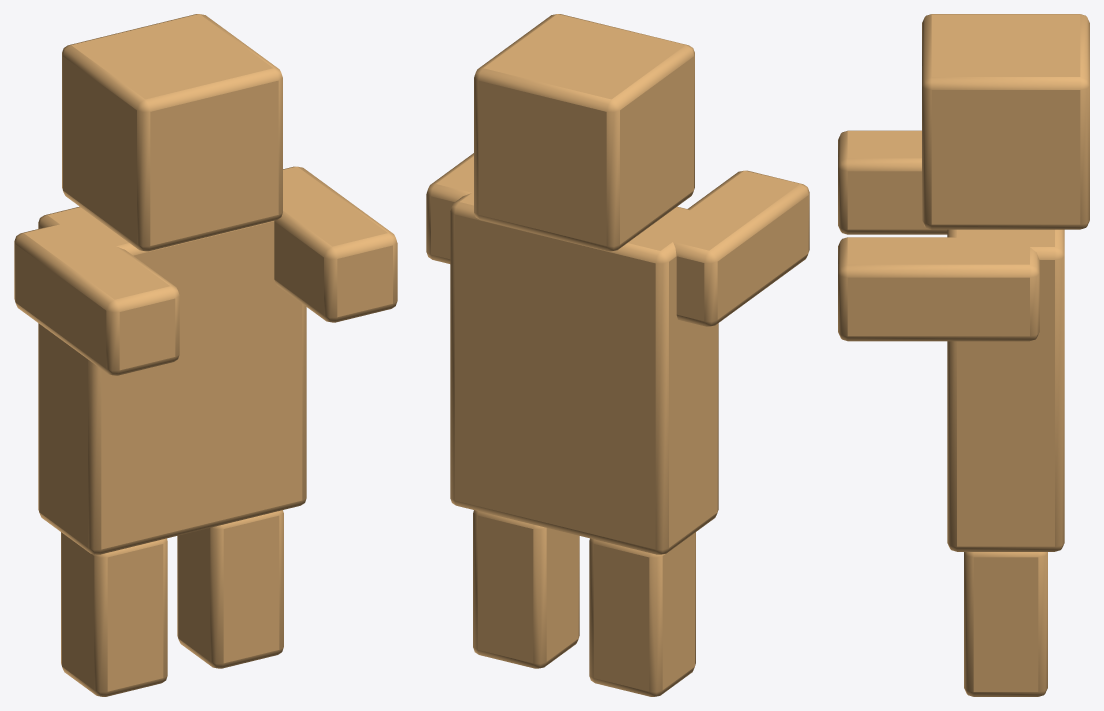
Rendered from normalEnemy.obj.
3 renders of one model, left to right at view 1: azimuth 30°, elevation 25°; view 2: azimuth 150°, elevation 25°; view 3: azimuth 270°, elevation 25°, orthographic.
Parts seen in each view (by area): view 1: chara; view 2: chara; view 3: chara.
Part boxes in pixels (bbox=[...]): chara: bbox=[14, 14, 397, 696]; chara: bbox=[426, 14, 809, 696]; chara: bbox=[838, 14, 1089, 696].
Bounding box in the file's own units: 2 × 4 × 1.5.
Materials: 1 (1 with a texture image).
